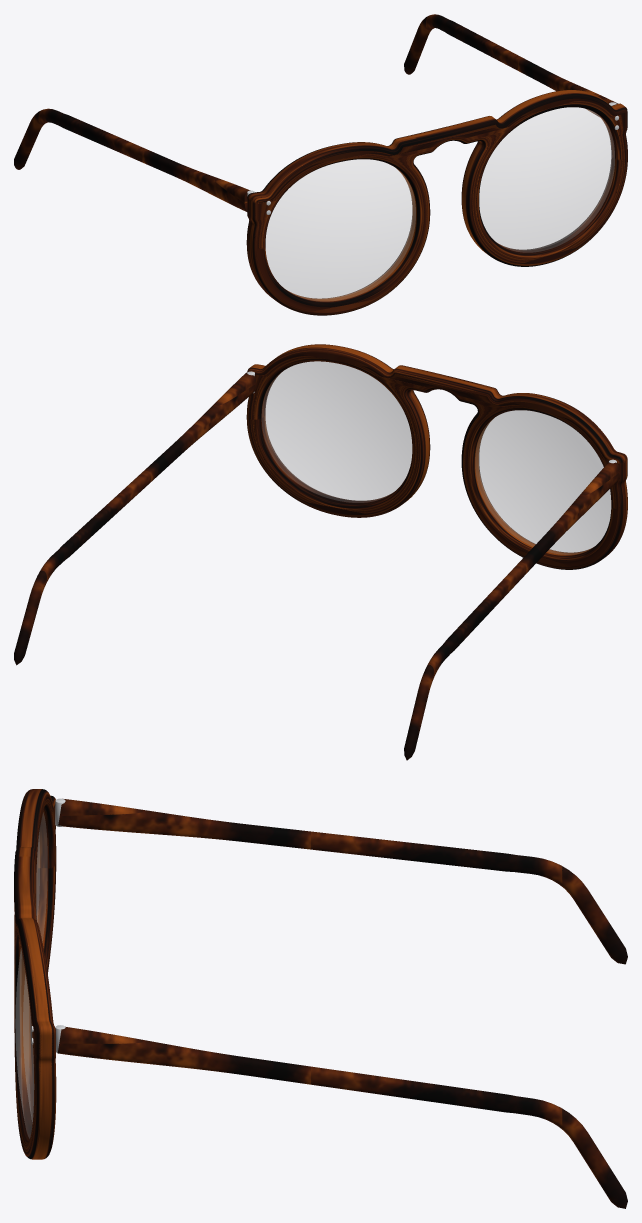
The model's file is milo-l.glb.
The picture shows the model from 3 angles, top to bottom: view 1: azimuth 30°, elevation 25°; view 2: azimuth 150°, elevation 25°; view 3: azimuth 270°, elevation 25°; orthographic projection. The views are drawn at different scales.
Parts seen in each view (by area): view 1: Front, Lens_R, Lens_L, Temple_R, Temple_L; view 2: Front, Lens_L, Lens_R, Temple_L, Temple_R; view 3: Front, Temple_L, Temple_R, Lens_L, Lens_R.
Boxes of the visible parts, x1=… form: Front: x1=246, y1=89, x2=627, y2=315; Lens_R: x1=266, y1=159, x2=415, y2=301; Lens_L: x1=479, y1=107, x2=614, y2=252; Temple_R: x1=14, y1=108, x2=250, y2=211; Temple_L: x1=404, y1=14, x2=617, y2=116; Front: x1=246, y1=344, x2=627, y2=569; Lens_L: x1=262, y1=361, x2=411, y2=502; Lens_R: x1=475, y1=410, x2=610, y2=554; Temple_L: x1=14, y1=372, x2=256, y2=665; Temple_R: x1=404, y1=462, x2=620, y2=760; Front: x1=14, y1=789, x2=65, y2=1159; Temple_L: x1=57, y1=1026, x2=627, y2=1208; Temple_R: x1=58, y1=799, x2=627, y2=964; Lens_L: x1=15, y1=949, x2=33, y2=1138; Lens_R: x1=36, y1=813, x2=47, y2=941.
Bounding box in the file's own units: 0.141 × 0.0575 × 0.1466.
4 materials, 2 textured.
